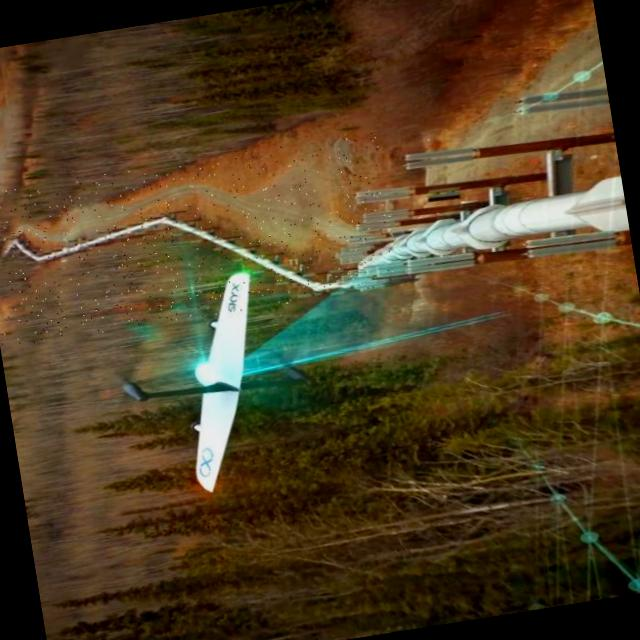gas: (359, 175, 629, 268)
